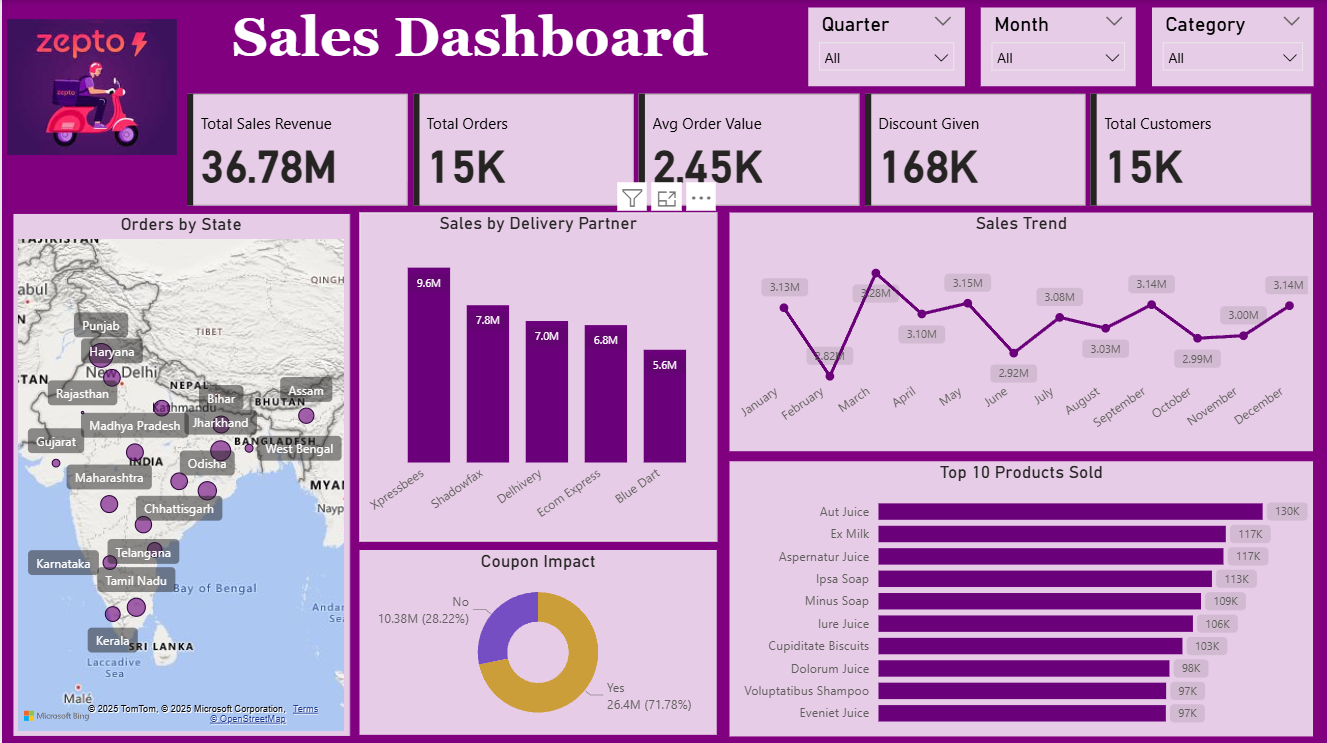

What the dashboard file says about the page in this screenshot:
{"tool":"powerbi","page":{"name":"Sales","canvas":[1280,720],"ordinal":1},"visuals":[{"type":"shape","box":[0,0,170.1,144.8],"z":0},{"type":"image","box":[0,0,173.7,167.7],"z":1000},{"type":"textbox","box":[168.9,0,565.8,98.9],"z":2000},{"type":"slicer","fields":{"Values":["Customers.created_date.Variation.Date Hierarchy.Quarter"]},"box":[778.2,7.2,150.8,76],"z":3000},{"type":"cardVisual","fields":{"Data":["All Measures.Total_Sales_Revenue","CountNonNull(Orders.Or_ID)","All Measures.Avg_Order_Value","All Measures.Discount Given","All Measures.Total Customers"]},"box":[173.7,85.7,1097.9,118.2],"z":4000},{"type":"map","title":"Orders by State","fields":{"Category":["Customers.State"],"Size":["CountNonNull(Orders.Or_ID)"]},"box":[10.9,206.3,324.5,504.3],"z":5000},{"type":"lineChart","title":"Sales Trend","fields":{"Y":["All Measures.Total_Sales_Revenue"],"Category":["Orders.Order_Date.Variation.Date Hierarchy.Month"]},"box":[702.1,205.1,563.4,230.4],"z":6000},{"type":"clusteredColumnChart","title":"Sales by Delivery Partner","fields":{"Y":["All Measures.Total_Sales_Revenue"],"Category":["Delivery.Delivery Partner"]},"box":[345,205,345,317.5],"z":7000},{"type":"donutChart","title":"Coupon Impact","fields":{"Category":["Orders.Coupon -Yes/No"],"Y":["All Measures.Total_Sales_Revenue"]},"box":[345,531.2,345,178.8],"z":8000},{"type":"slicer","fields":{"Values":["Customers.created_date.Variation.Date Hierarchy.Month"]},"box":[944.6,7.2,149.6,76],"z":9000},{"type":"clusteredBarChart","title":"Top 10 Products Sold","fields":{"Category":["Products.PName"],"Y":["All Measures.Total_Amount_After_Discount"]},"box":[702.1,445.2,563.4,265.4],"z":10000},{"type":"slicer","fields":{"Values":["Products.Category"]},"box":[1109.9,7.2,155.6,76],"z":11000}]}

Visuals, with their boxes in screenshot pixels (x1, y1, x2, y2), scaled from the page's 1280x720 canvas onto the 1327x743 screenshot:
shape: 0:0:176:149
image: 0:0:180:173
textbox: 175:0:762:102
slicer - Customers.created_date.Variation.Date Hierarchy.Quarter: 807:7:963:86
cardVisual - All Measures.Total_Sales_Revenue x CountNonNull(Orders.Or_ID): 180:88:1318:210
"Orders by State" map: 11:213:348:733
"Sales Trend" lineChart: 728:212:1312:449
"Sales by Delivery Partner" clusteredColumnChart: 358:212:715:539
"Coupon Impact" donutChart: 358:548:715:733
slicer - Customers.created_date.Variation.Date Hierarchy.Month: 979:7:1134:86
"Top 10 Products Sold" clusteredBarChart: 728:459:1312:733
slicer - Products.Category: 1151:7:1312:86
